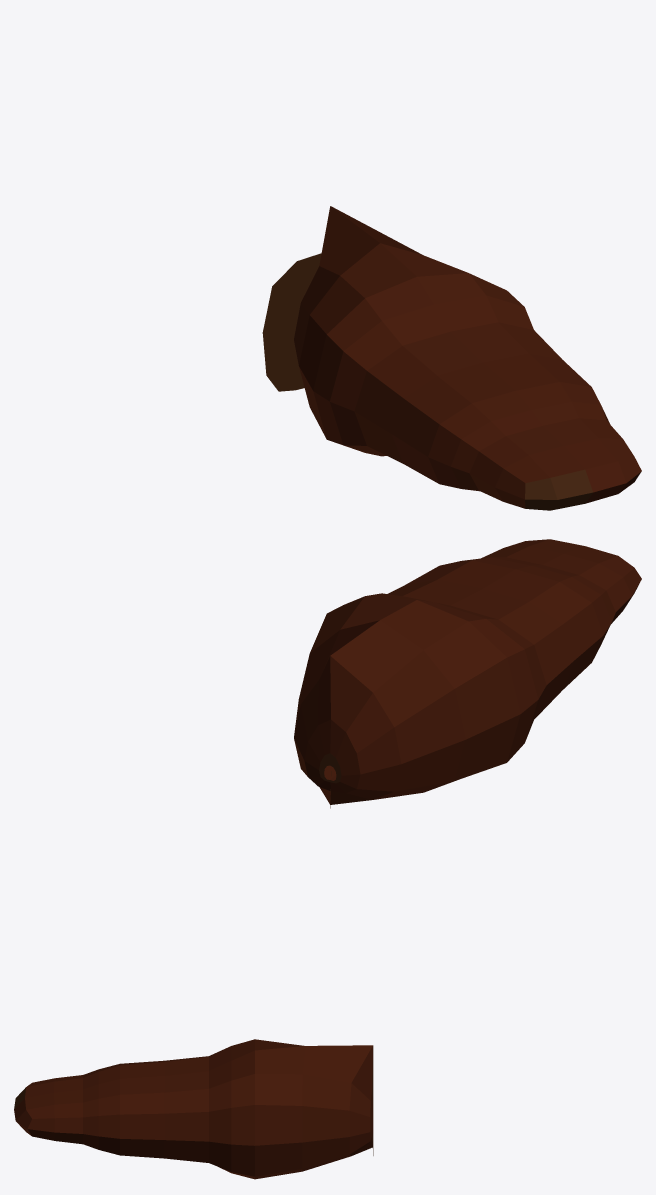
File: mosquitosac.fbx
3 views of the same model, one above another, from view 1: azimuth 30°, elevation 25°; view 2: azimuth 150°, elevation 25°; view 3: azimuth 270°, elevation 25° (orthographic). The views are drawn at different scales.
Visible parts, largest first — view 1: Cube; view 2: Cube; view 3: Cube.
Part boxes in pixels (bbox=[...]): Cube: bbox=[262, 206, 641, 510]; Cube: bbox=[294, 539, 641, 808]; Cube: bbox=[14, 1039, 373, 1179].
Bounding box in the file's own units: 265 × 232 × 885.
